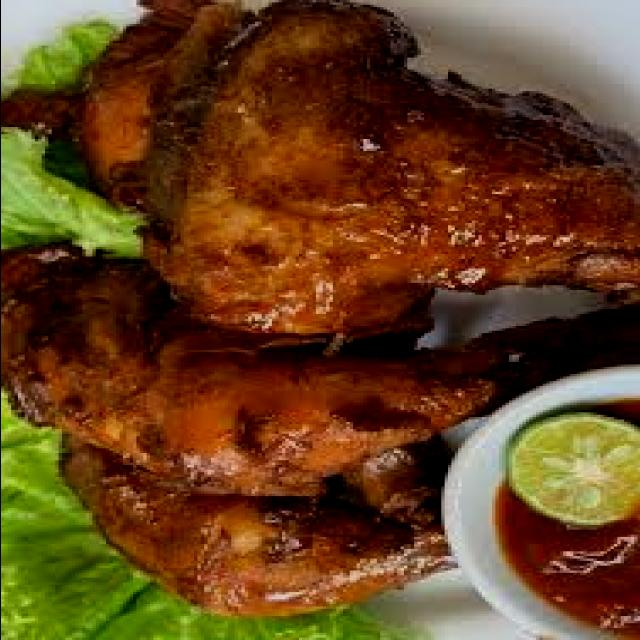ayam bakar: (0, 247, 640, 616), (0, 0, 640, 338)
